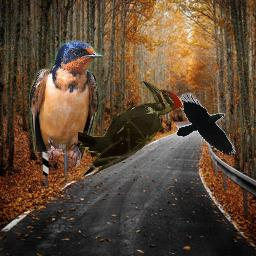Crow: (176, 92, 236, 154)
Swallow: (29, 40, 104, 168)
Woodpecker: (78, 81, 184, 179)
